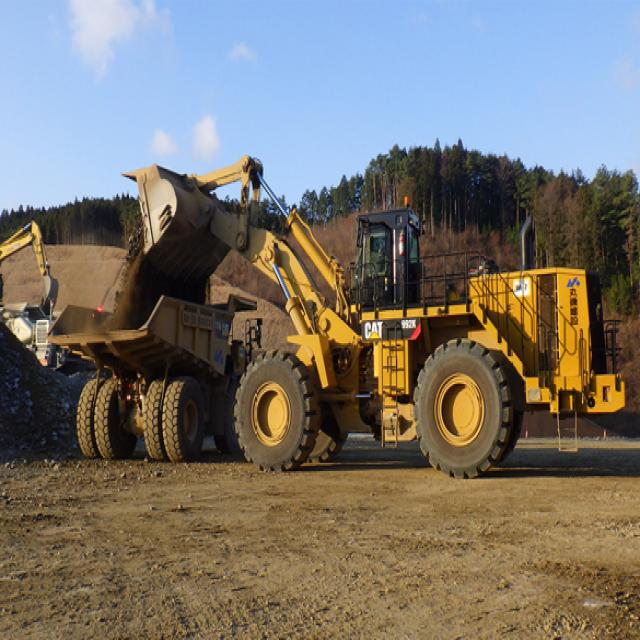buldozerpayloadergrader: (132, 134, 634, 510)
dump_truck: (49, 290, 254, 486)
